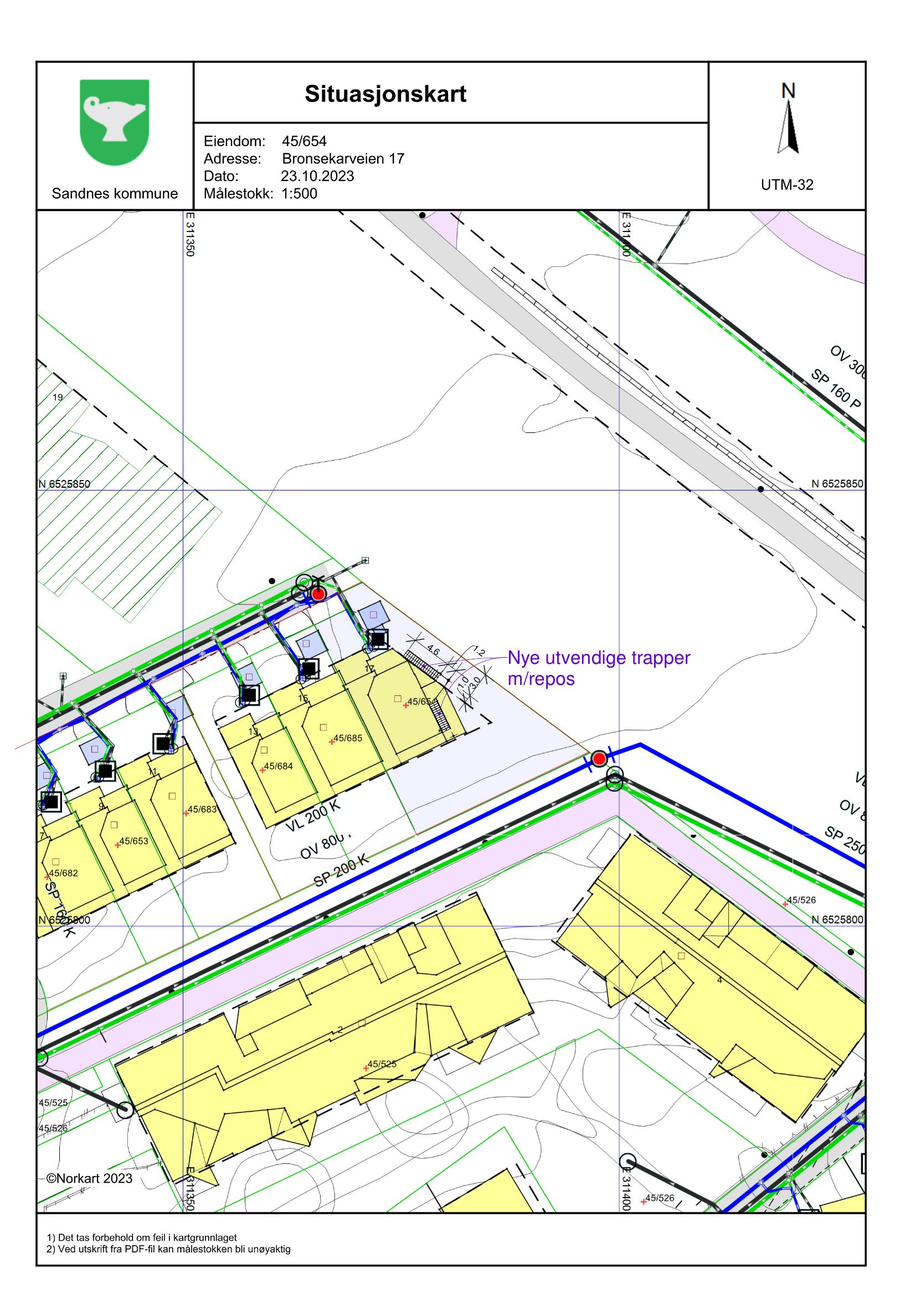situasjonskart: (36, 207, 868, 1216)
